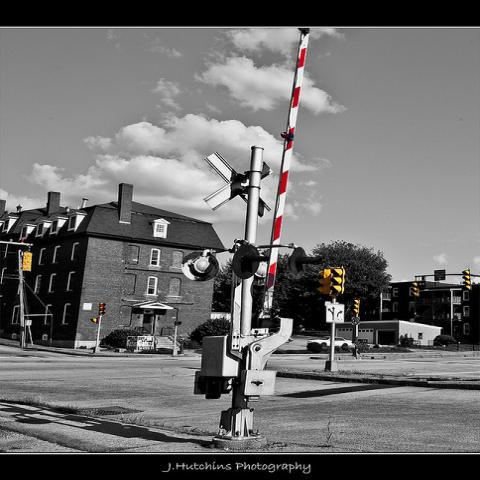car: (308, 336, 352, 347), (433, 336, 460, 346)
